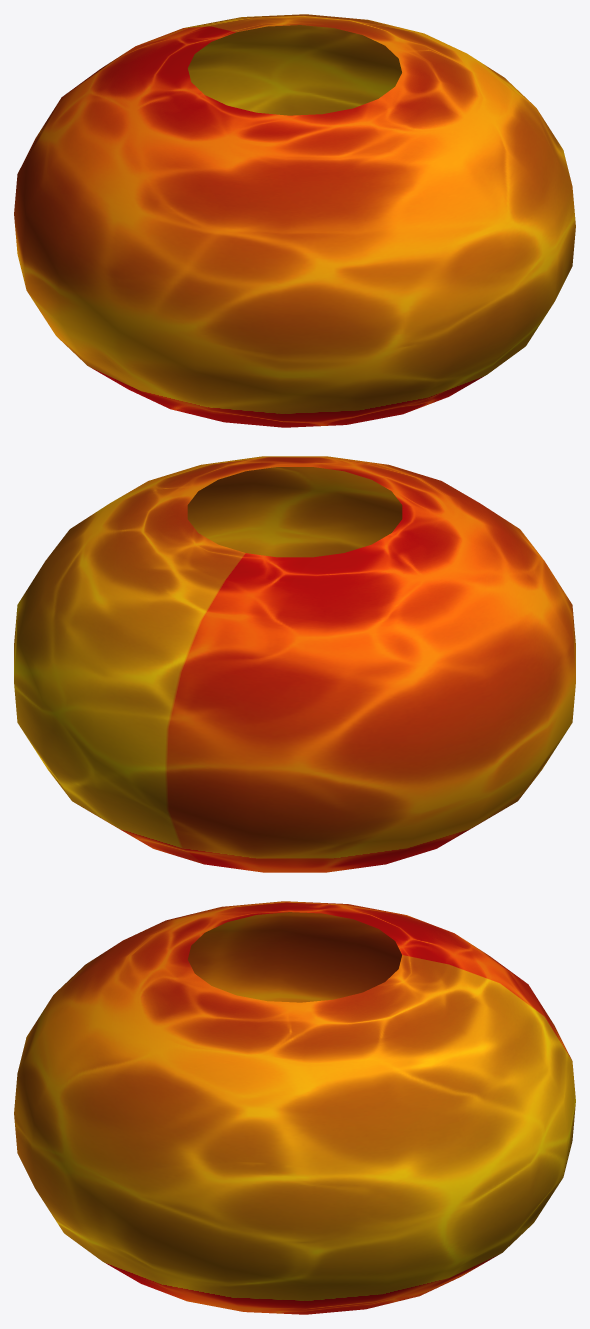
File: VFX_Ball.fbx
3 views of the same model, one above another, from view 1: azimuth 30°, elevation 25°; view 2: azimuth 150°, elevation 25°; view 3: azimuth 270°, elevation 25° (orthographic).
Visible parts, largest first — view 1: Ball; view 2: Ball; view 3: Ball.
Boxes of the visible parts, box(x1,y1,x2,y2) form: Ball: box(14, 14, 575, 427); Ball: box(14, 456, 575, 872); Ball: box(14, 901, 575, 1314).
Bounding box in the file's own units: 263 × 155 × 263.
